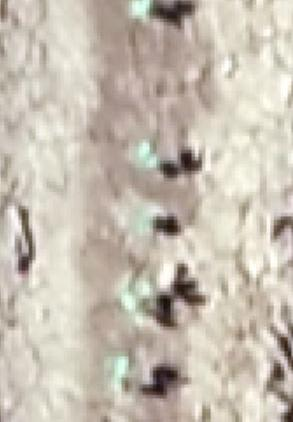cotton: (119, 274, 149, 314), (107, 357, 130, 389), (134, 141, 159, 167), (130, 1, 156, 20)
